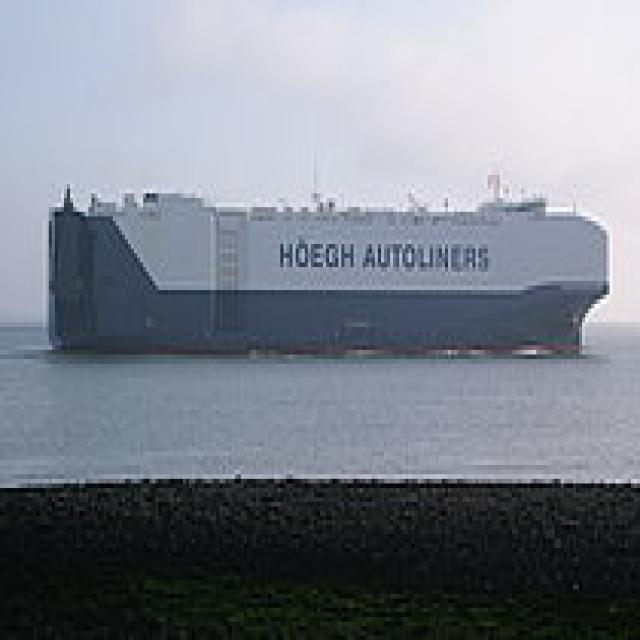Carrier: (36, 166, 610, 359)
